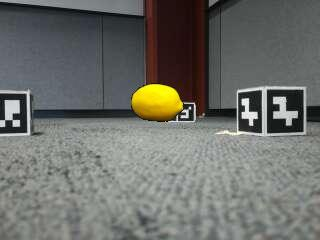lemon: (132, 84, 182, 120)
